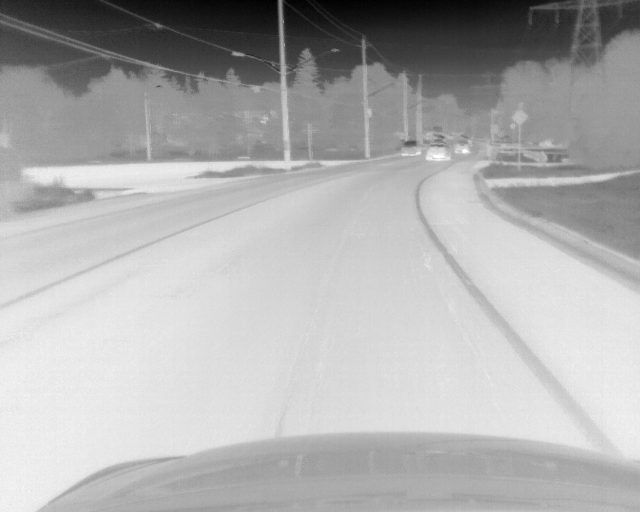car: (425, 143, 451, 161), (400, 140, 420, 156), (453, 141, 470, 155)
